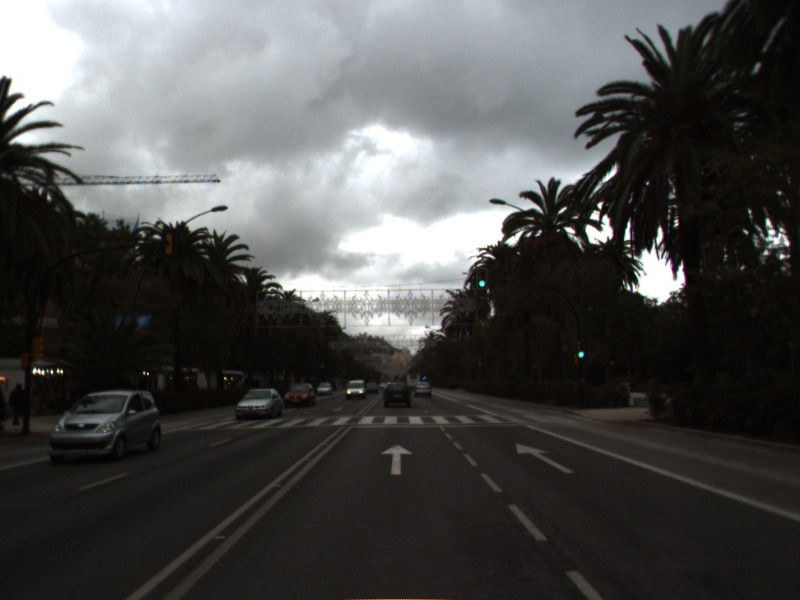STRAIGHT: (514, 441, 577, 475), (379, 442, 416, 477)
